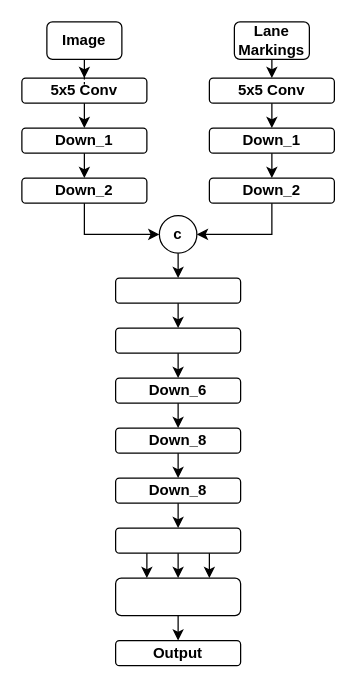
This 356x688 diagram has some shape labels left out. The shapes that lost their labels are listed below. From the top down, each one's centre as x and y in pixels, then its label:
(x=177, y=290): Down_3
(x=177, y=340): Down_4
(x=177, y=540): Flatten
(x=177, y=596): Classification Block
